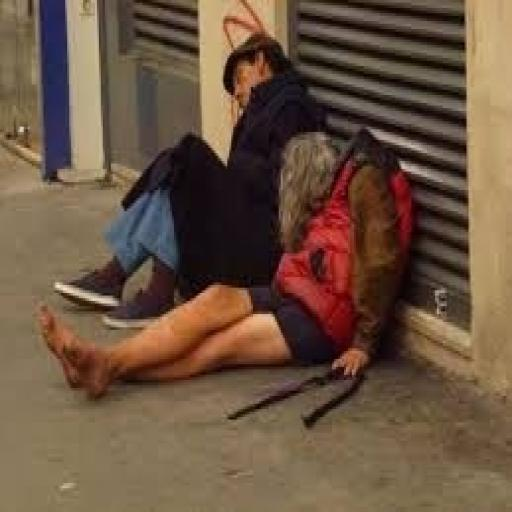sleeping: (36, 124, 417, 401), (52, 32, 330, 332)
